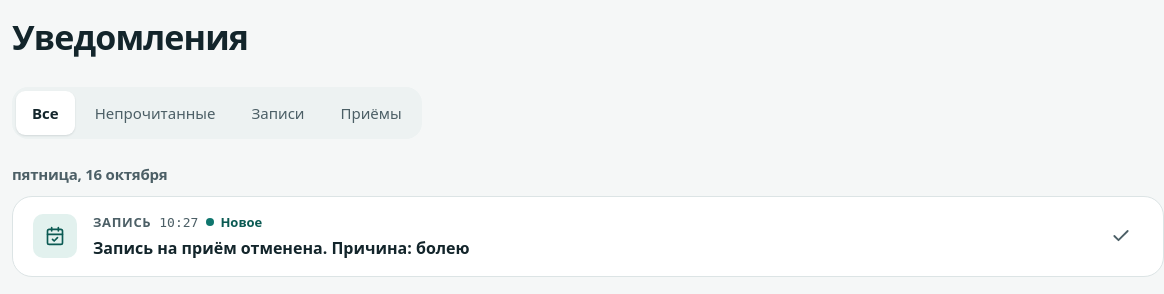
Test: NotificationCenter › should disable the button and say so while the request is running
Click the button named "Отметить прочитанным": {"x": 1121, "y": 236} [1099,214,1143,258]
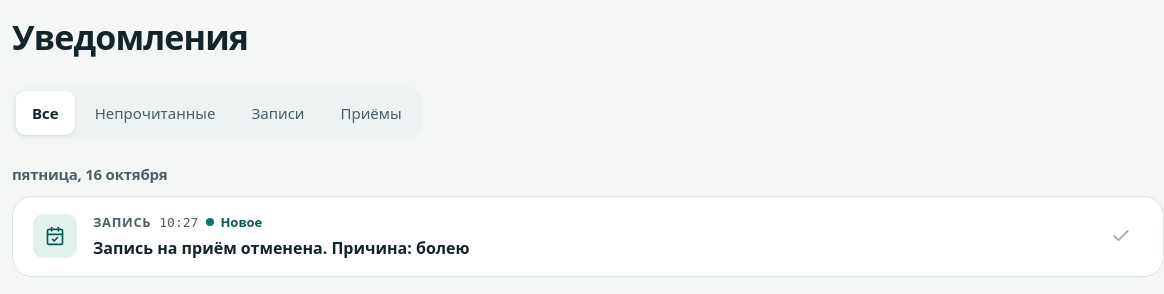
Expected: the button named "Отмечаем…" is disabled, [1099,214,1143,258]
